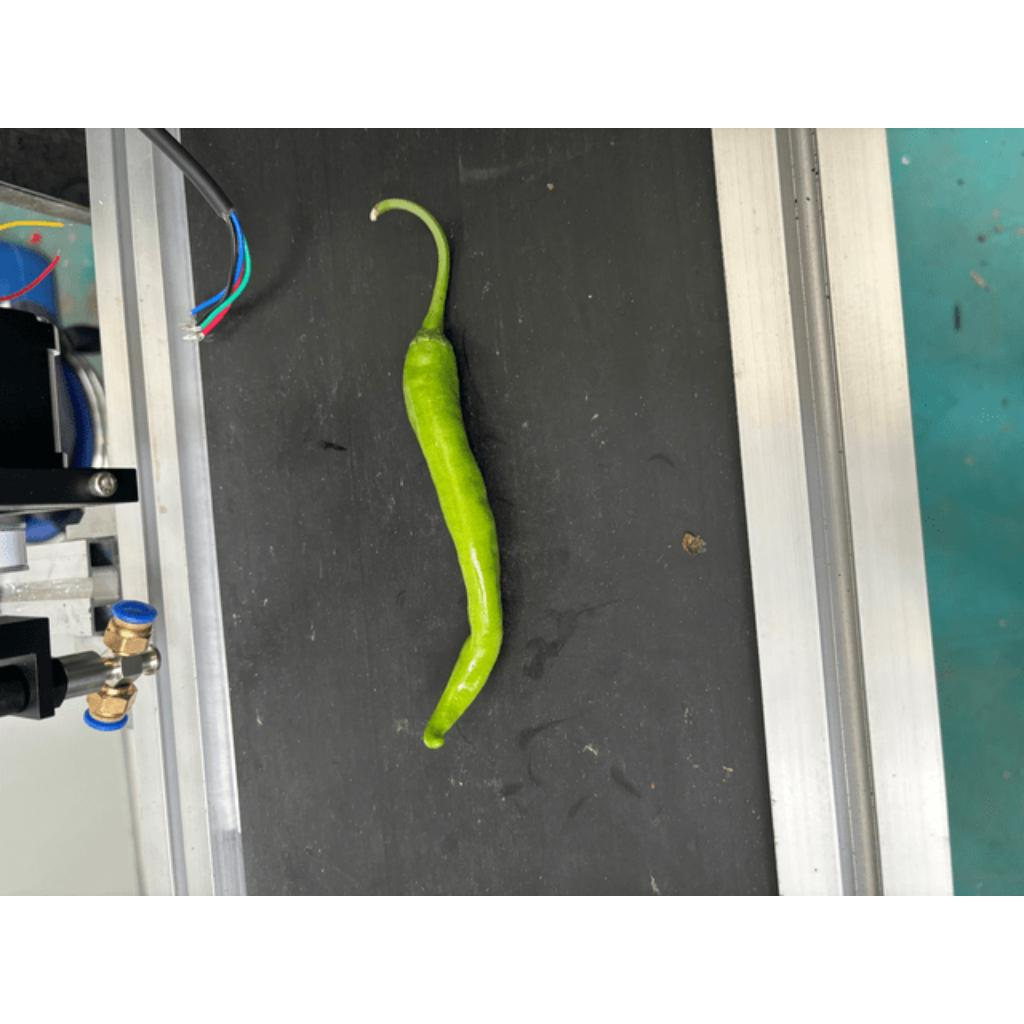chili: (400, 325, 505, 752)
